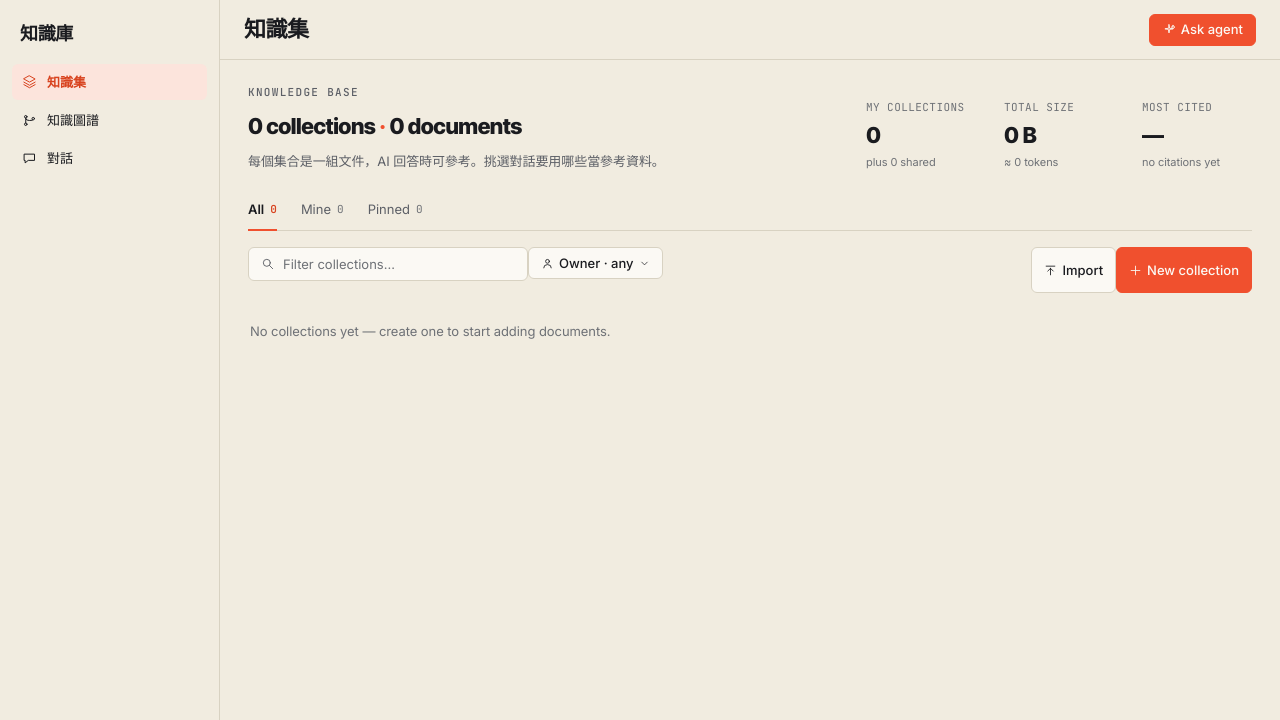
Test: KbHome shell › opens the Ask-agent drawer from the top bar
Click the button "Ask agent". click: (1202, 30)
box: top-left (1149, 14), bottom-right (1256, 46)
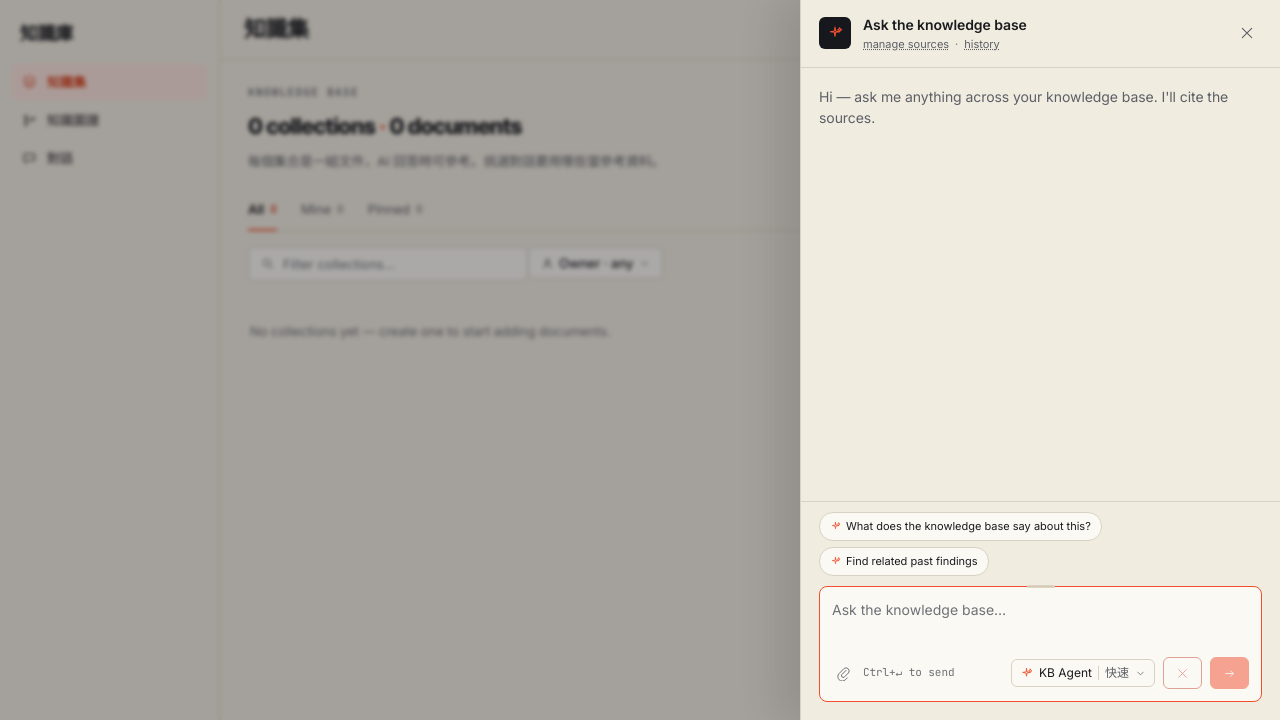
Check: the text box with placeholder "Ask the knowledge base…" is shown, box top-left (832, 599), bottom-right (1249, 643)
